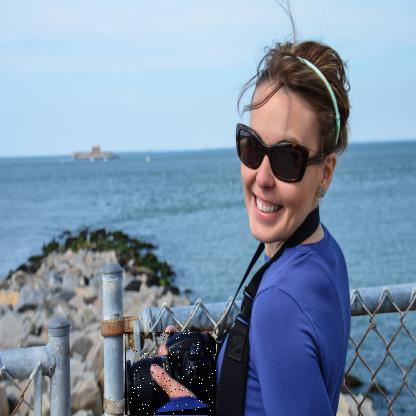Camera: (126, 333, 218, 416)
